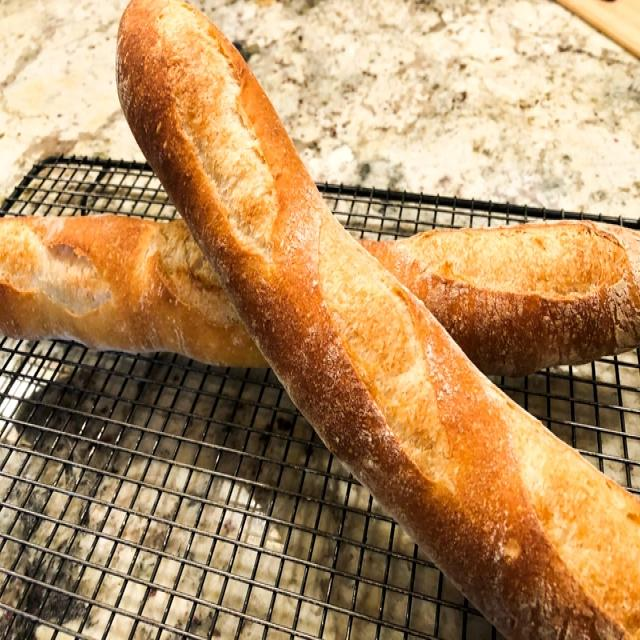Baguette: (118, 0, 639, 639), (360, 220, 639, 375), (0, 215, 264, 363)
